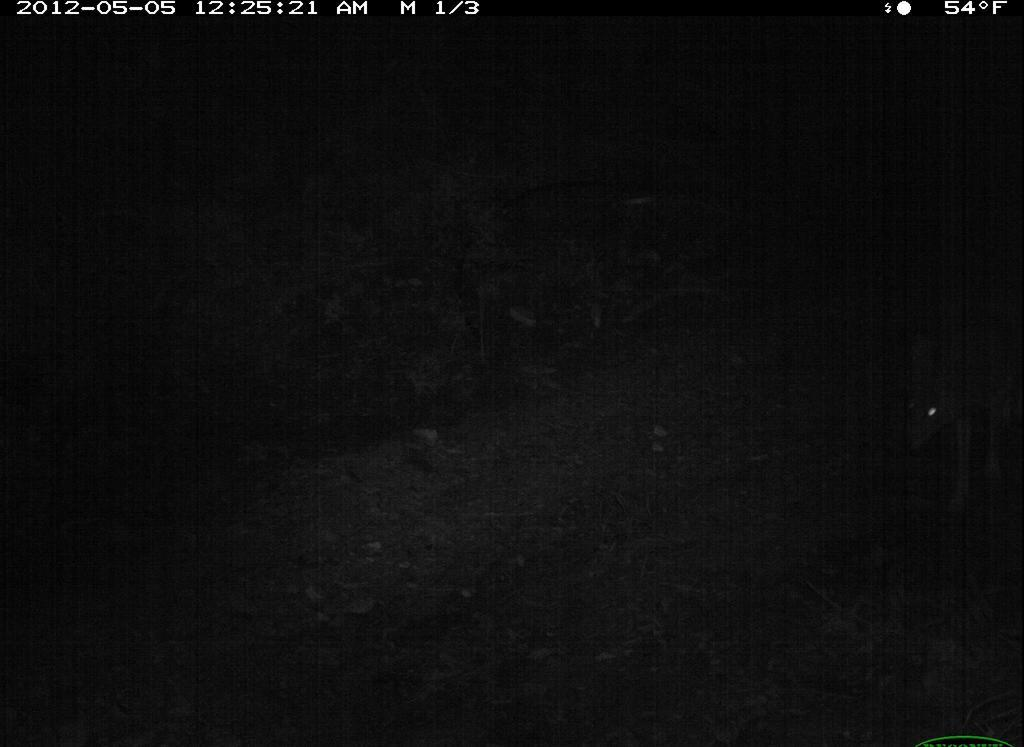coyote: (889, 297, 1012, 521)
